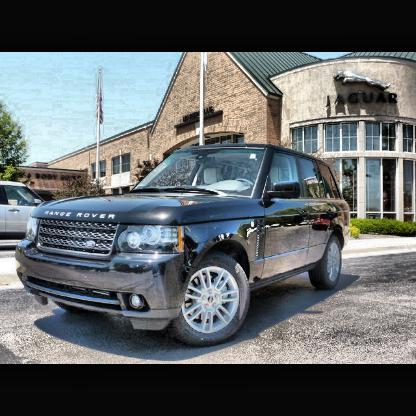Land Rover Range Rover SUV 2012: (16, 144, 350, 348)
